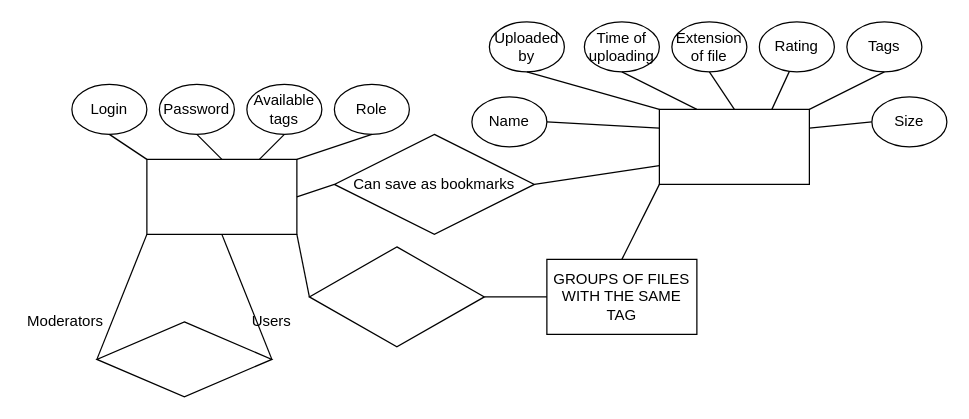
Image size: 969x419. Some labels were removed from this diagram. The shapes that lost their labels are listed below. From the top down, each one's box as (x1, y1, x2, y2) in pixels, then its label:
(658, 108, 809, 184): FILE
(146, 158, 297, 234): USER
(308, 246, 484, 347): Available for
(96, 321, 272, 397): Moderates content for
